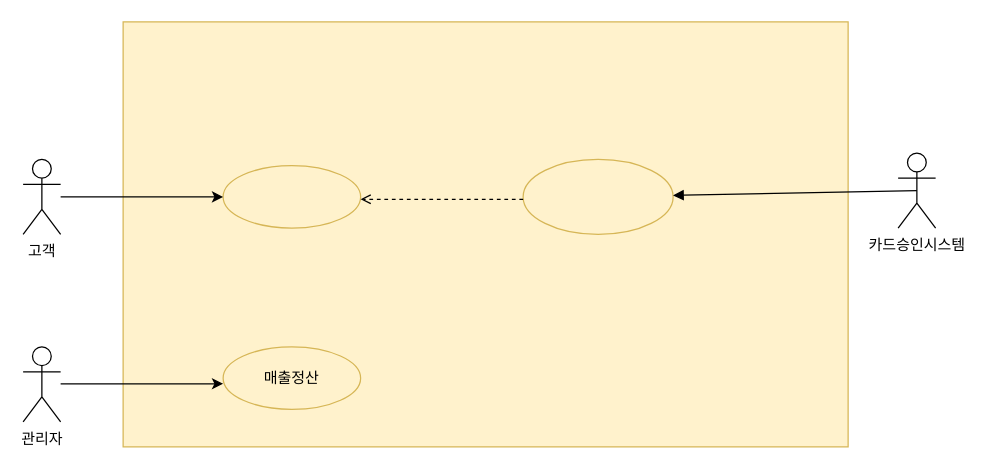
Some shapes in this 986 by 470 pixel diagram are drawn without their labels. Each missing label, with the box of its shape:
결제: (222, 164, 361, 228)
신용카드지불: (522, 158, 673, 234)
